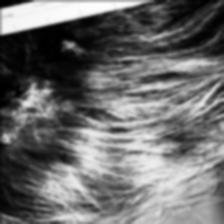Unclassified: (0, 72, 63, 172)
